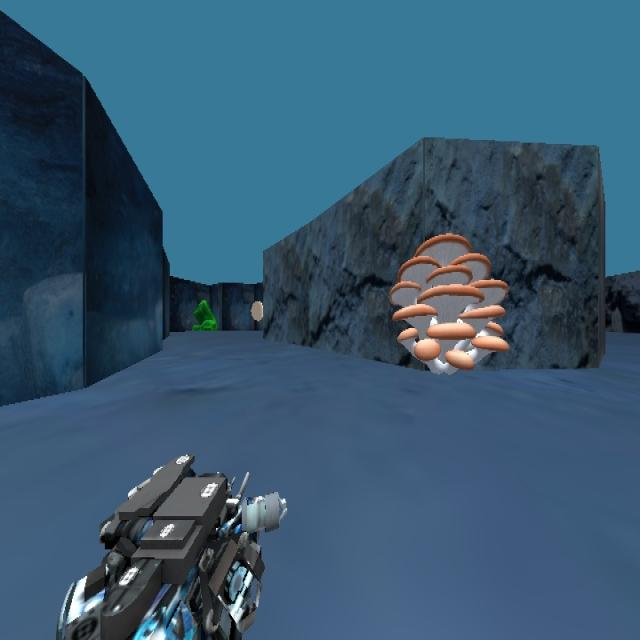Circle: (250, 299, 263, 321)
Diamon: (191, 297, 218, 331)
Mushroom: (388, 231, 509, 372)
